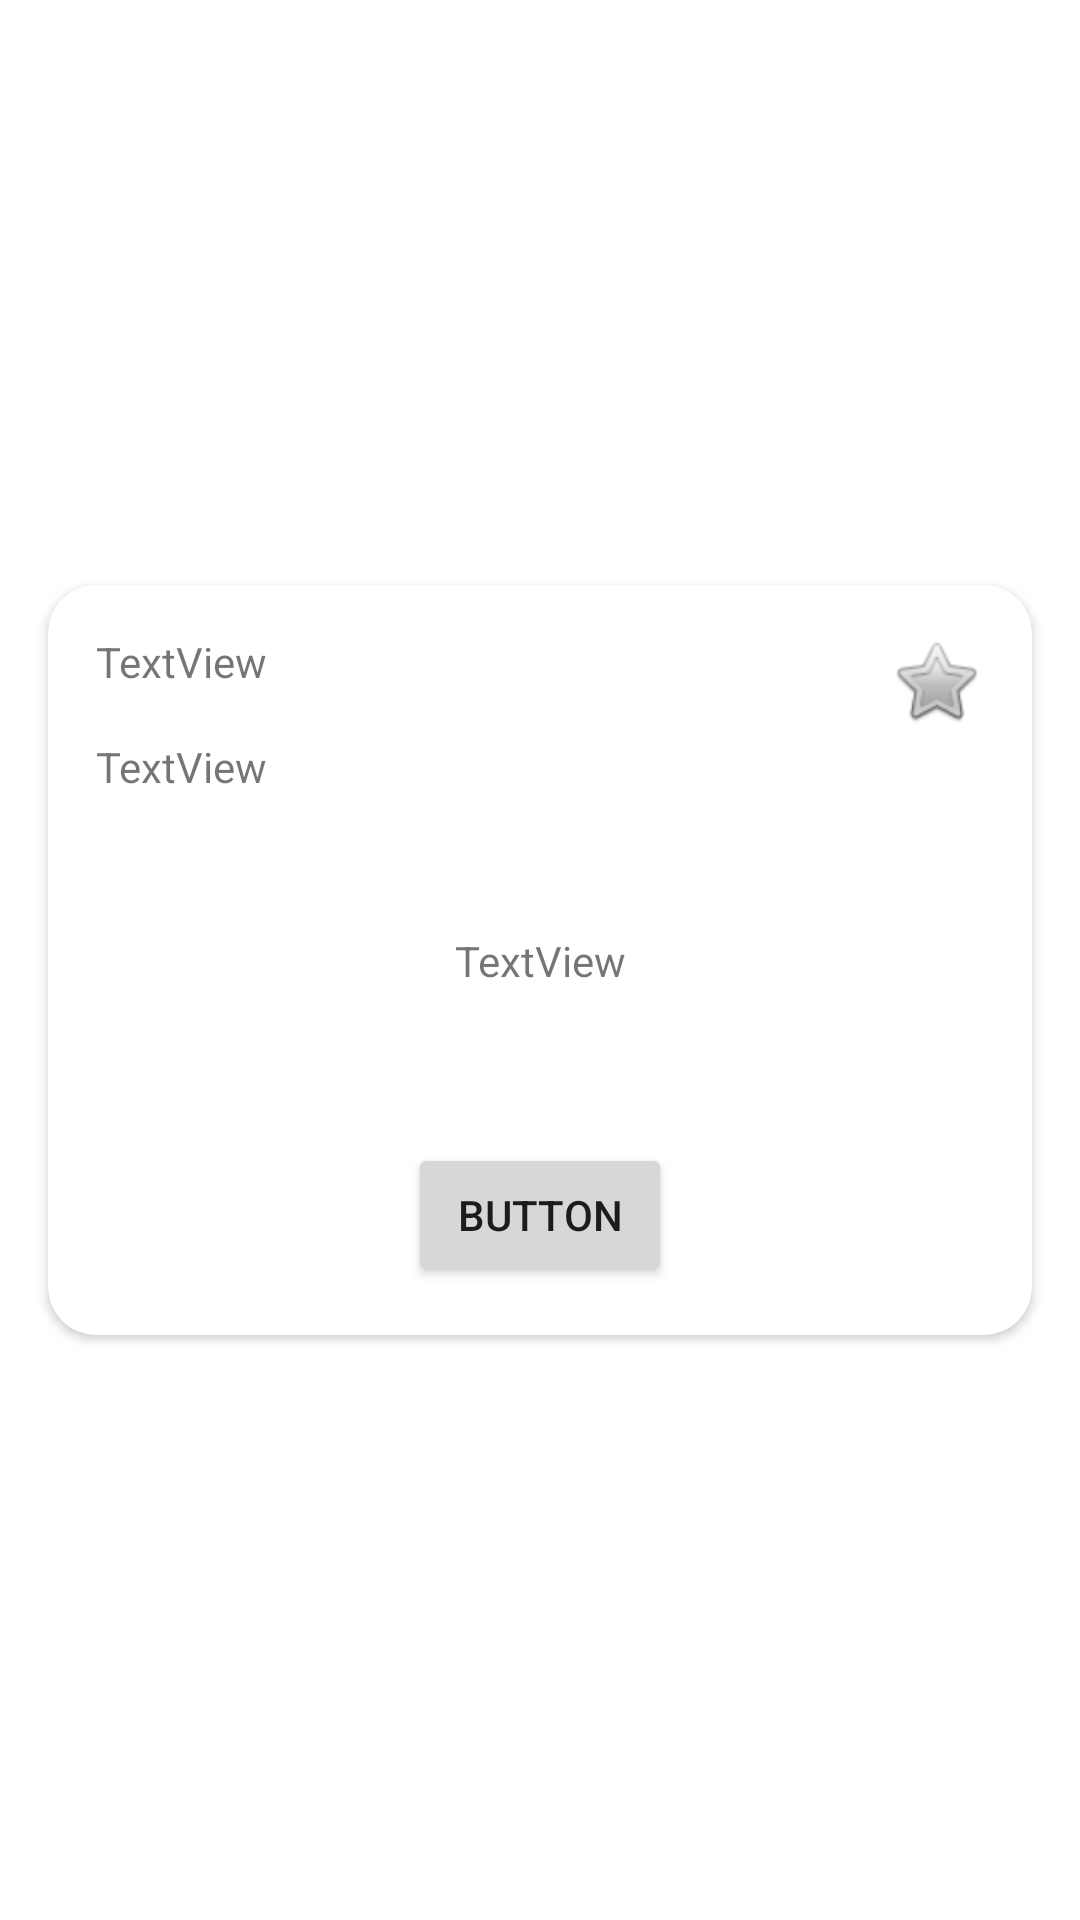

Icons on this 1080*1920 Android screen, each with its box as bbox=[x1, y1, x2, y2]:
star: bbox=[897, 643, 977, 721]
